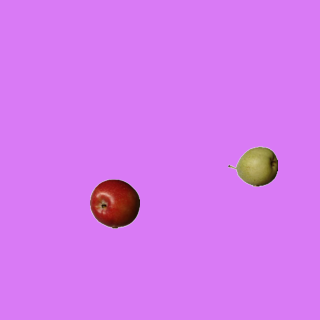Apple Braeburn: (89, 178, 139, 228)
Pear: (227, 141, 277, 191)
